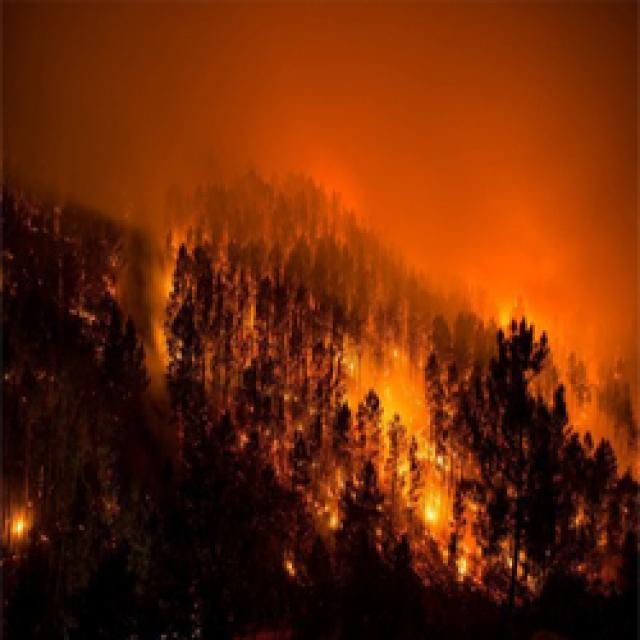Fire: (323, 299, 521, 586), (212, 335, 314, 518), (115, 224, 211, 393), (565, 478, 640, 620), (486, 242, 566, 358), (0, 466, 70, 580)
Smoke: (0, 0, 640, 266)
